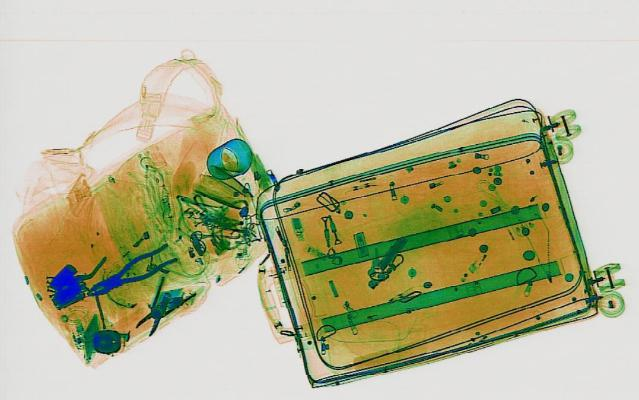Pliers: (74, 240, 187, 299), (117, 274, 204, 337)
